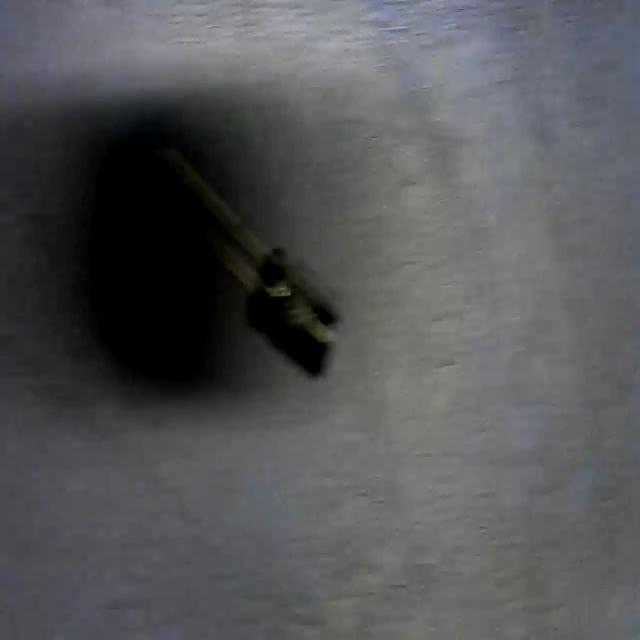capacitor: (156, 145, 337, 366)
